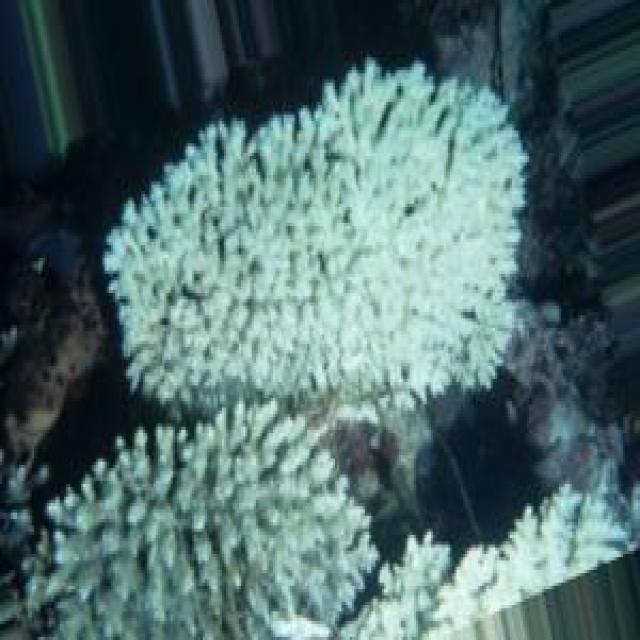bleached coral: (192, 280, 339, 357), (128, 150, 245, 236), (235, 484, 356, 564), (309, 172, 407, 258), (393, 309, 474, 404), (444, 137, 518, 213), (130, 430, 201, 506), (540, 484, 591, 557), (452, 541, 508, 592), (294, 108, 339, 156)
